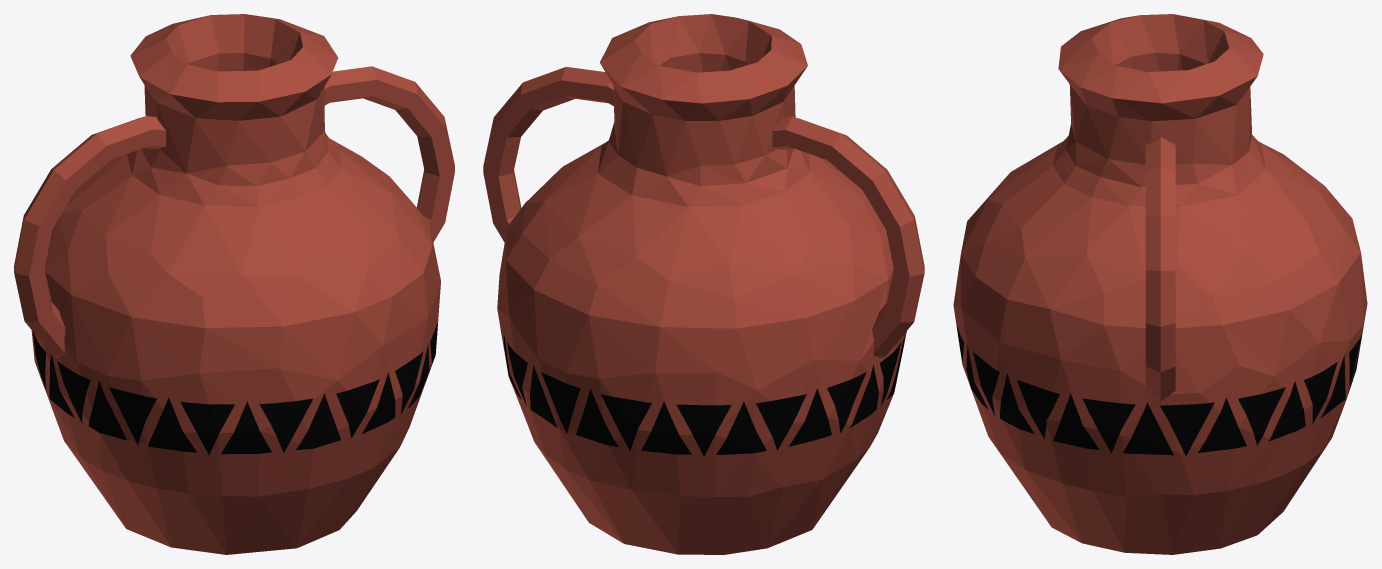
Rendered from Pottery 21_2.fbx.
The picture shows the model from 3 angles, left to right: view 1: azimuth 30°, elevation 25°; view 2: azimuth 150°, elevation 25°; view 3: azimuth 270°, elevation 25°; orthographic projection.
Visible parts, largest first — view 1: Pottery 21_2; view 2: Pottery 21_2; view 3: Pottery 21_2.
Boxes of the visible parts, bbox=[...] form: Pottery 21_2: bbox=[14, 14, 454, 554]; Pottery 21_2: bbox=[483, 14, 924, 554]; Pottery 21_2: bbox=[953, 14, 1367, 554].
Size of the model in its own units: 65.52 by 65.3 by 53.29.
